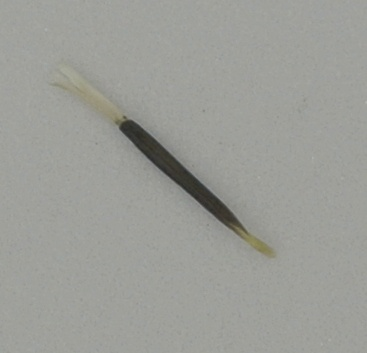เมล็ดดีเรียวยาว: (47, 62, 278, 260)
